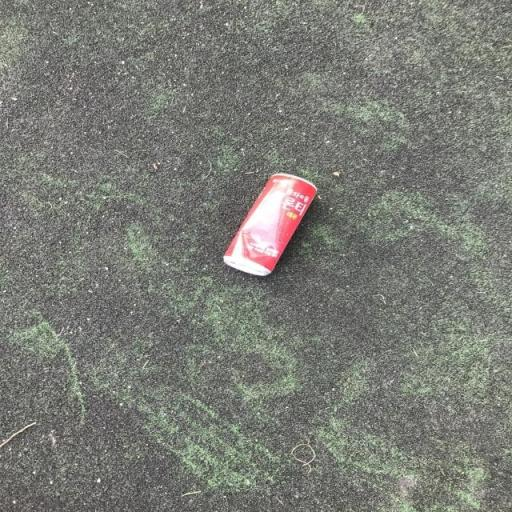metal: (208, 158, 332, 288)
